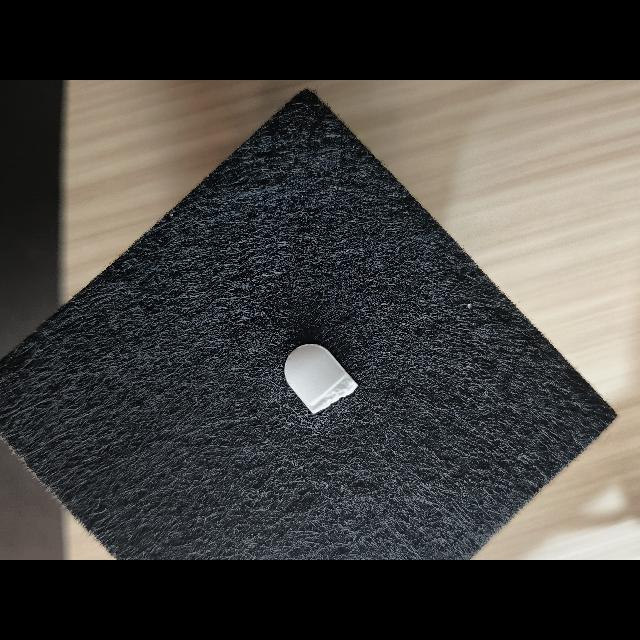Chipped Pill: (284, 344, 358, 414)
